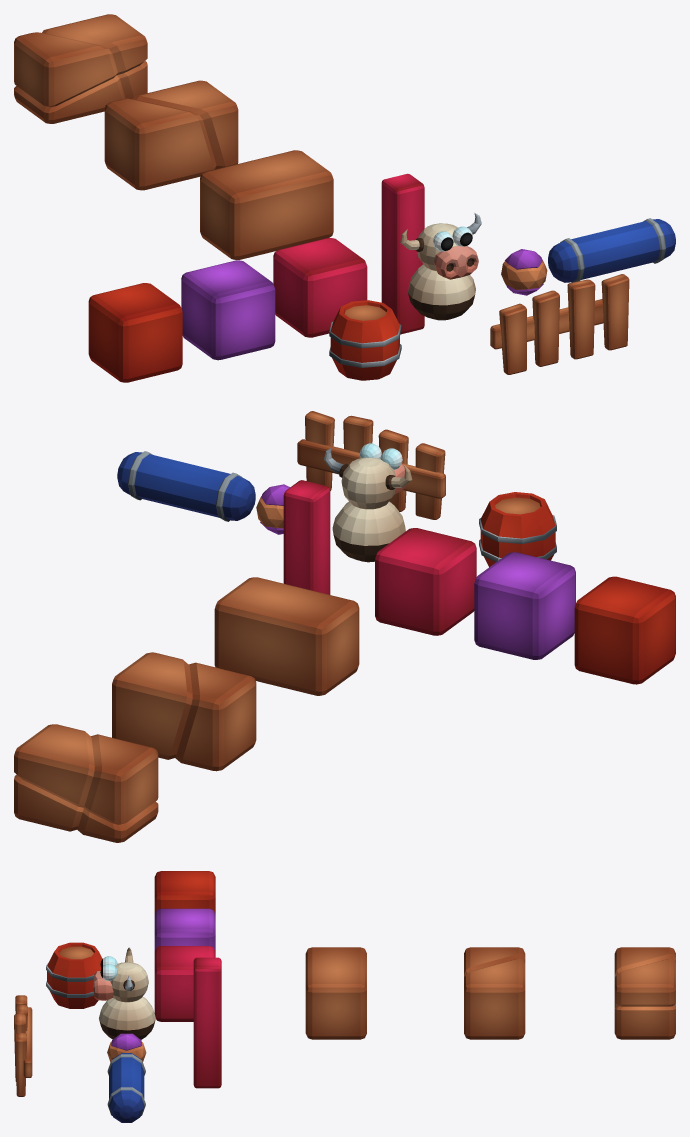
File: break-out-models-1.fbx
3 views of the same model, one above another, from view 1: azimuth 30°, elevation 25°; view 2: azimuth 150°, elevation 25°; view 3: azimuth 270°, elevation 25° (orthographic). The views are drawn at different scales.
Parts seen in each view (by area): view 1: Cube.001, Cube.005, Cube.006, Cube.011, Cube.004, Cube.003, Cube, Sphere, Cube.002, Cylinder.001, Cylinder, Icosphere; view 2: Cube.006, Cube.001, Cube.005, Cube.004, Cube.003, Cube, Sphere, Cube.011, Cylinder.001, Cube.002, Cylinder, Icosphere; view 3: Cube.001, Cube.005, Cube.006, Sphere, Cube.002, Cube, Cylinder, Cube.004, Cube.003, Cylinder.001, Cube.011, Icosphere.
Part boxes in pixels (box(x1,y1,x2,y2)): Cube.001: box(200, 150, 333, 259); Cube.005: box(104, 80, 238, 190); Cube.006: box(14, 14, 147, 123); Cube.011: box(490, 274, 629, 374); Cube.004: box(88, 283, 182, 382); Cube.003: box(181, 260, 275, 360); Cube: box(273, 238, 367, 337); Sphere: box(400, 213, 481, 320); Cube.002: box(381, 173, 424, 334); Cylinder.001: box(548, 218, 675, 282); Cylinder: box(329, 300, 401, 380); Icosphere: box(501, 249, 547, 295); Cube.006: box(14, 724, 158, 842); Cube.001: box(214, 577, 359, 695); Cube.005: box(112, 652, 256, 771); Cube.004: box(574, 576, 675, 684); Cube.003: box(474, 552, 575, 659); Cube: box(375, 528, 476, 635); Sphere: box(324, 443, 412, 562); Cube.011: box(297, 411, 445, 519); Cylinder.001: box(117, 451, 255, 521); Cube.002: box(283, 480, 330, 594); Cylinder: box(479, 492, 556, 567); Icosphere: box(256, 484, 290, 534); Cube.001: box(305, 947, 366, 1039); Cube.005: box(464, 947, 525, 1039); Cube.006: box(614, 947, 675, 1039); Sphere: box(93, 947, 155, 1039); Cube.002: box(193, 957, 221, 1088); Cube: box(154, 946, 215, 1021); Cylinder: box(46, 942, 102, 1008); Cube.004: box(154, 871, 215, 913); Cube.003: box(154, 908, 215, 951); Cylinder.001: box(107, 1053, 145, 1122); Cube.011: box(14, 995, 32, 1096); Icosphere: box(107, 1033, 146, 1062).
Size of the model in its own units: 1300 by 340 by 1681.
